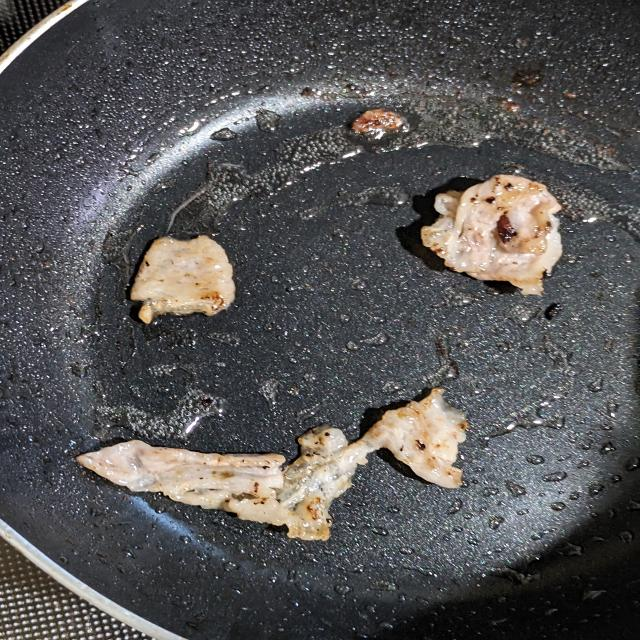OK cooked pork,: (66, 382, 482, 547), (420, 167, 570, 305), (123, 228, 236, 325)
